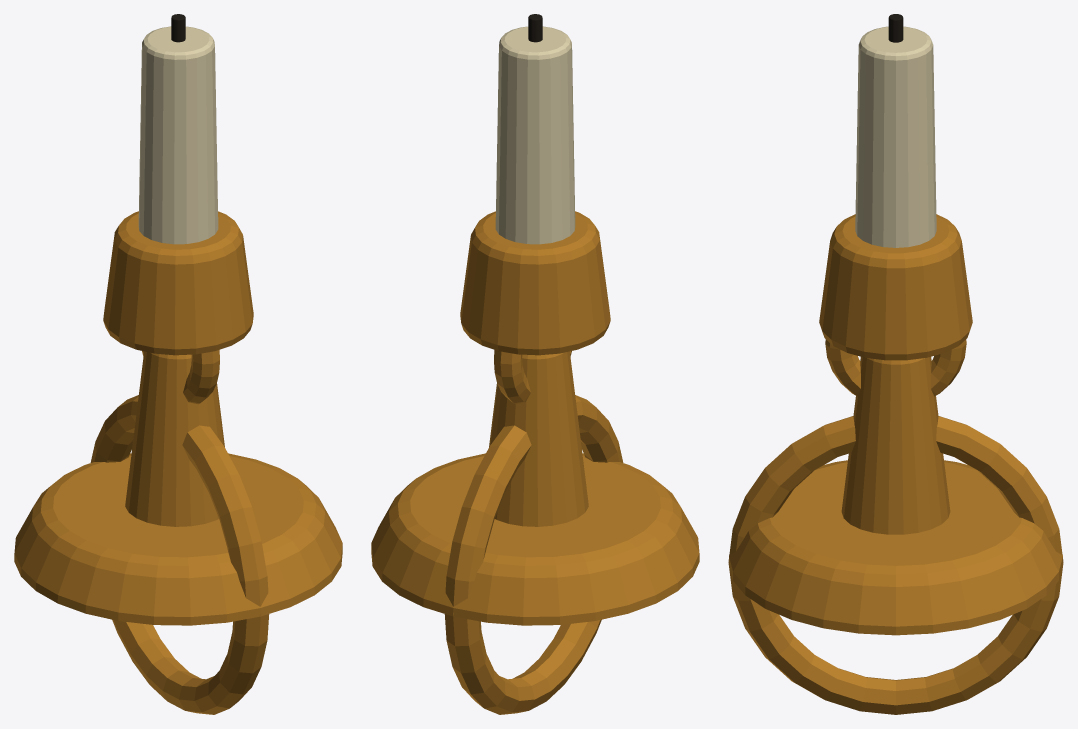
File: brass-candlestick.glb
The picture shows the model from 3 angles, left to right: view 1: azimuth 30°, elevation 25°; view 2: azimuth 150°, elevation 25°; view 3: azimuth 270°, elevation 25°; orthographic projection.
Parts seen in each view (by area): view 1: CandlestickFoot, CandlestickSocket, Candle, CandlestickFootRing, CandlestickStemLower, CandlestickStemRing; view 2: CandlestickFoot, CandlestickSocket, Candle, CandlestickFootRing, CandlestickStemLower, CandlestickStemRing; view 3: CandlestickFoot, CandlestickFootRing, CandlestickSocket, Candle, CandlestickStemLower, CandlestickStemRing.
Part boxes in pixels (<box>): CandlestickFoot: <box>14,453,342,625</box>; CandlestickSocket: <box>103,211,253,355</box>; Candle: <box>138,26,218,244</box>; CandlestickFootRing: <box>90,395,269,714</box>; CandlestickStemLower: <box>125,351,224,526</box>; CandlestickStemRing: <box>142,350,219,404</box>; CandlestickFoot: <box>371,453,699,625</box>; CandlestickSocket: <box>460,211,610,355</box>; Candle: <box>495,26,575,244</box>; CandlestickFootRing: <box>444,395,623,714</box>; CandlestickStemLower: <box>489,351,588,526</box>; CandlestickStemRing: <box>494,350,571,404</box>; CandlestickFoot: <box>728,460,1063,635</box>; CandlestickFootRing: <box>729,416,1062,714</box>; CandlestickSocket: <box>819,214,972,360</box>; Candle: <box>855,26,936,247</box>; CandlestickStemLower: <box>841,357,950,534</box>; CandlestickStemRing: <box>825,339,966,396</box>.
Bounding box in the file's own units: 0.2698 × 0.6205 × 0.27.
